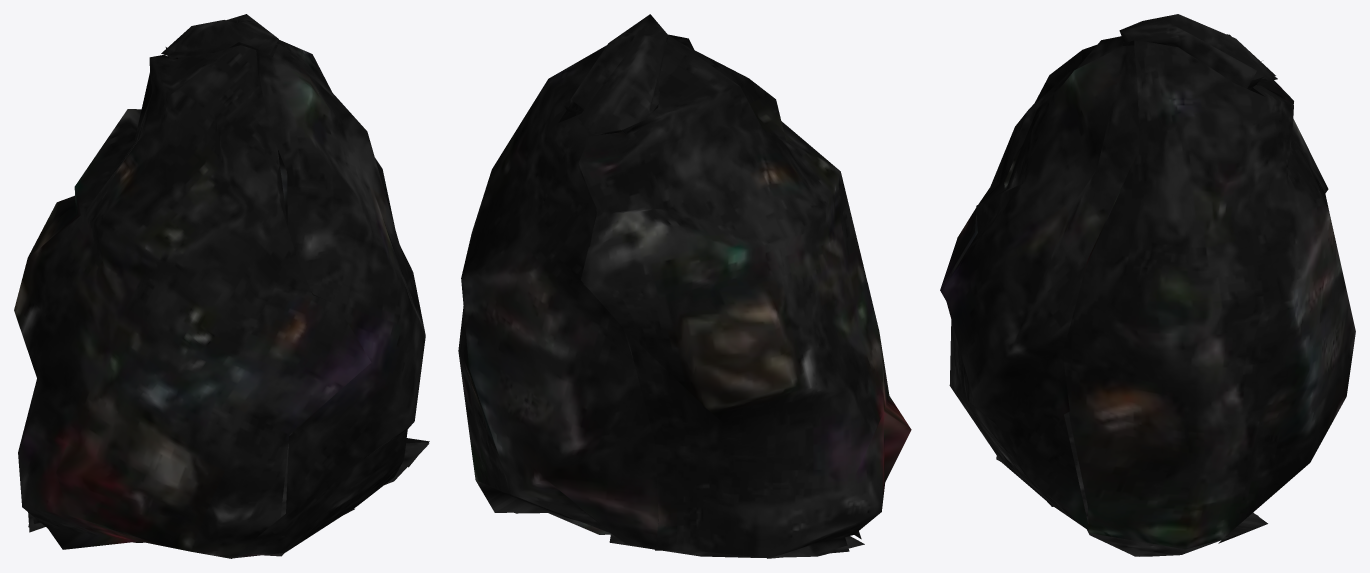
Rendered from trashbag.glb.
3 renders of one model, left to right at view 1: azimuth 30°, elevation 25°; view 2: azimuth 150°, elevation 25°; view 3: azimuth 270°, elevation 25°, orthographic.
Parts seen in each view (by area): view 1: trashbag; view 2: trashbag; view 3: trashbag.
Part boxes in pixels (x1,y1,x2,y2): trashbag: (14,14,429,558); trashbag: (458,14,911,558); trashbag: (940,14,1355,556).
Size of the model in its own units: 0.5204 by 0.5775 by 0.4654.
Materials: 1 (1 with a texture image).
